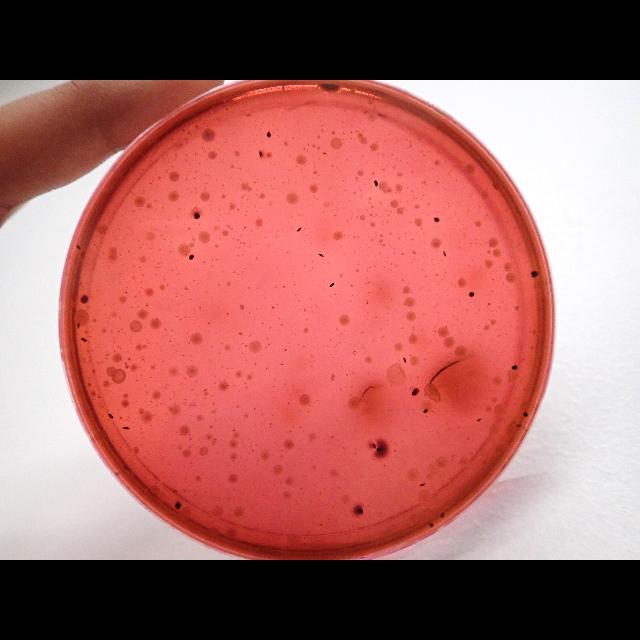colony: (318, 81, 342, 93), (173, 501, 183, 511), (410, 388, 420, 397), (80, 294, 88, 304), (106, 412, 114, 420), (530, 270, 538, 278), (356, 507, 364, 515), (510, 364, 518, 371), (193, 212, 200, 220), (258, 150, 264, 158), (328, 282, 336, 288), (418, 482, 426, 488), (428, 522, 434, 530), (266, 132, 272, 138), (434, 217, 440, 223), (469, 291, 475, 297), (188, 254, 194, 260), (318, 252, 324, 258), (296, 226, 302, 232), (321, 150, 327, 156), (476, 417, 482, 423), (516, 422, 522, 428), (122, 426, 130, 430), (80, 338, 88, 342), (76, 322, 80, 330), (524, 411, 528, 419), (374, 180, 378, 187), (372, 442, 376, 448), (376, 448, 382, 452), (423, 409, 429, 413), (440, 512, 444, 518), (124, 290, 128, 294), (444, 250, 446, 258), (404, 356, 406, 364), (184, 286, 188, 290), (187, 131, 191, 135), (123, 464, 127, 468), (232, 428, 235, 432), (195, 124, 198, 128), (436, 180, 439, 183), (384, 464, 386, 468), (270, 422, 272, 426), (284, 382, 286, 386), (286, 388, 288, 392), (288, 401, 290, 405), (188, 446, 192, 448), (188, 434, 192, 436), (209, 426, 213, 428), (183, 464, 185, 468), (152, 414, 156, 416), (181, 294, 183, 298), (176, 272, 178, 276), (194, 152, 196, 156), (182, 128, 184, 132), (356, 130, 358, 134), (351, 130, 353, 134), (203, 260, 205, 264), (284, 348, 286, 352), (245, 344, 247, 348), (272, 305, 274, 309), (280, 324, 284, 326), (266, 338, 270, 340), (227, 312, 229, 316), (244, 382, 246, 386), (254, 362, 256, 366), (303, 344, 305, 348), (330, 338, 332, 342), (340, 332, 342, 336), (176, 431, 178, 434), (238, 247, 240, 250), (270, 326, 272, 329), (265, 346, 267, 349), (210, 346, 213, 348), (230, 367, 233, 369), (227, 366, 229, 369), (245, 387, 248, 389), (266, 366, 268, 369), (394, 450, 396, 452), (355, 452, 357, 454), (342, 447, 344, 449), (331, 436, 333, 438), (299, 426, 301, 428), (269, 426, 271, 428), (281, 450, 283, 452), (134, 296, 136, 298), (146, 305, 148, 307), (273, 385, 275, 387), (254, 408, 256, 410), (190, 438, 192, 440), (196, 427, 198, 429), (193, 456, 195, 458), (190, 462, 192, 464), (180, 433, 182, 435), (172, 444, 174, 446), (150, 401, 152, 403), (184, 398, 186, 400), (184, 402, 186, 404), (204, 397, 206, 399), (196, 394, 198, 396), (191, 388, 193, 390), (196, 380, 198, 382), (173, 393, 175, 395), (156, 404, 158, 406), (128, 358, 130, 360), (169, 340, 171, 342), (188, 342, 190, 344), (182, 354, 184, 356), (190, 354, 192, 356), (198, 325, 200, 327), (164, 328, 166, 330), (171, 329, 173, 331), (176, 316, 178, 318), (180, 319, 182, 321), (184, 316, 186, 318), (189, 316, 191, 318), (199, 307, 201, 309), (194, 312, 196, 314), (208, 322, 210, 324), (211, 298, 213, 300), (190, 298, 192, 300), (175, 296, 177, 298), (198, 283, 200, 285), (193, 280, 195, 282), (178, 273, 180, 275), (171, 269, 173, 271), (172, 269, 174, 271), (142, 274, 144, 276), (140, 281, 142, 283), (140, 286, 142, 288), (156, 266, 158, 268), (155, 274, 157, 276), (164, 279, 166, 281), (161, 262, 163, 264), (157, 263, 159, 265), (152, 260, 154, 262), (148, 257, 150, 259), (149, 248, 151, 250), (170, 251, 172, 253), (185, 254, 187, 256), (160, 234, 162, 236), (164, 238, 166, 240), (159, 249, 161, 251), (139, 246, 141, 248), (128, 250, 130, 252), (118, 244, 120, 246), (137, 240, 139, 242), (142, 244, 144, 246), (132, 238, 134, 240), (192, 210, 194, 212), (184, 223, 186, 225), (177, 216, 179, 218), (178, 208, 180, 210), (162, 207, 164, 209), (155, 208, 157, 210), (139, 221, 141, 223), (148, 218, 150, 220), (150, 182, 152, 184), (194, 177, 196, 179), (186, 179, 188, 181), (204, 174, 206, 176), (204, 187, 206, 189), (222, 184, 224, 186), (206, 182, 208, 184), (218, 148, 220, 150), (205, 151, 207, 153), (332, 132, 334, 134), (354, 192, 356, 194), (360, 189, 362, 191), (360, 196, 362, 198), (348, 199, 350, 201), (336, 207, 338, 209), (334, 215, 336, 217), (333, 217, 335, 219), (331, 201, 333, 203), (332, 204, 334, 206), (347, 219, 349, 221), (348, 228, 350, 230), (370, 214, 372, 216), (371, 206, 373, 208), (303, 227, 305, 229), (306, 234, 308, 236), (308, 237, 310, 239), (310, 242, 312, 244), (242, 249, 244, 251), (242, 254, 244, 256), (243, 242, 245, 244), (237, 208, 239, 210), (300, 349, 302, 351), (240, 335, 242, 337), (249, 312, 251, 314), (262, 322, 264, 324), (268, 343, 270, 345), (242, 342, 244, 344), (250, 334, 252, 336), (221, 342, 223, 344), (219, 352, 221, 354), (208, 331, 210, 333), (214, 382, 216, 384), (214, 375, 216, 377), (227, 384, 229, 386), (234, 385, 236, 387), (238, 390, 240, 392), (250, 372, 252, 374), (281, 363, 283, 365), (241, 352, 243, 354), (238, 348, 240, 350), (295, 333, 297, 335), (312, 360, 314, 362), (310, 361, 312, 363), (311, 365, 313, 367), (333, 346, 335, 348), (335, 344, 337, 346), (339, 342, 341, 344), (327, 345, 329, 347), (343, 330, 345, 332), (354, 351, 356, 353), (353, 352, 355, 354), (368, 358, 370, 360), (346, 374, 348, 376), (352, 372, 354, 374), (350, 374, 352, 376), (368, 282, 370, 284), (428, 202, 429, 205), (186, 404, 187, 406), (206, 389, 207, 391), (174, 402, 176, 403), (173, 345, 174, 347), (337, 210, 338, 212), (357, 216, 358, 218), (352, 213, 353, 215), (362, 204, 363, 206), (246, 359, 247, 361), (250, 342, 252, 343), (332, 357, 334, 358), (368, 372, 370, 373), (380, 328, 382, 329), (310, 404, 310, 408), (173, 392, 174, 392), (170, 398, 170, 399), (192, 359, 192, 361), (126, 288, 128, 288), (157, 230, 159, 230), (190, 227, 190, 229), (160, 176, 160, 178), (208, 175, 208, 177), (210, 148, 210, 150), (362, 194, 362, 196), (344, 207, 344, 209), (346, 219, 346, 221), (352, 217, 352, 219), (344, 224, 344, 226), (250, 246, 250, 248)
